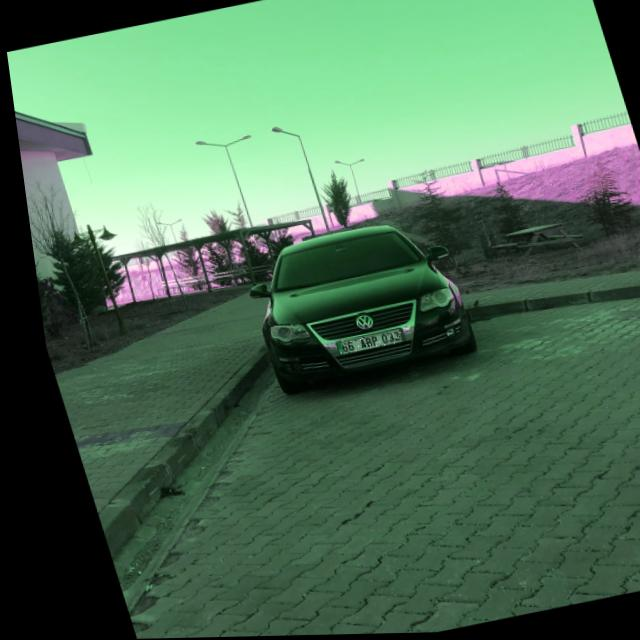license_plate: (325, 329, 397, 355)
